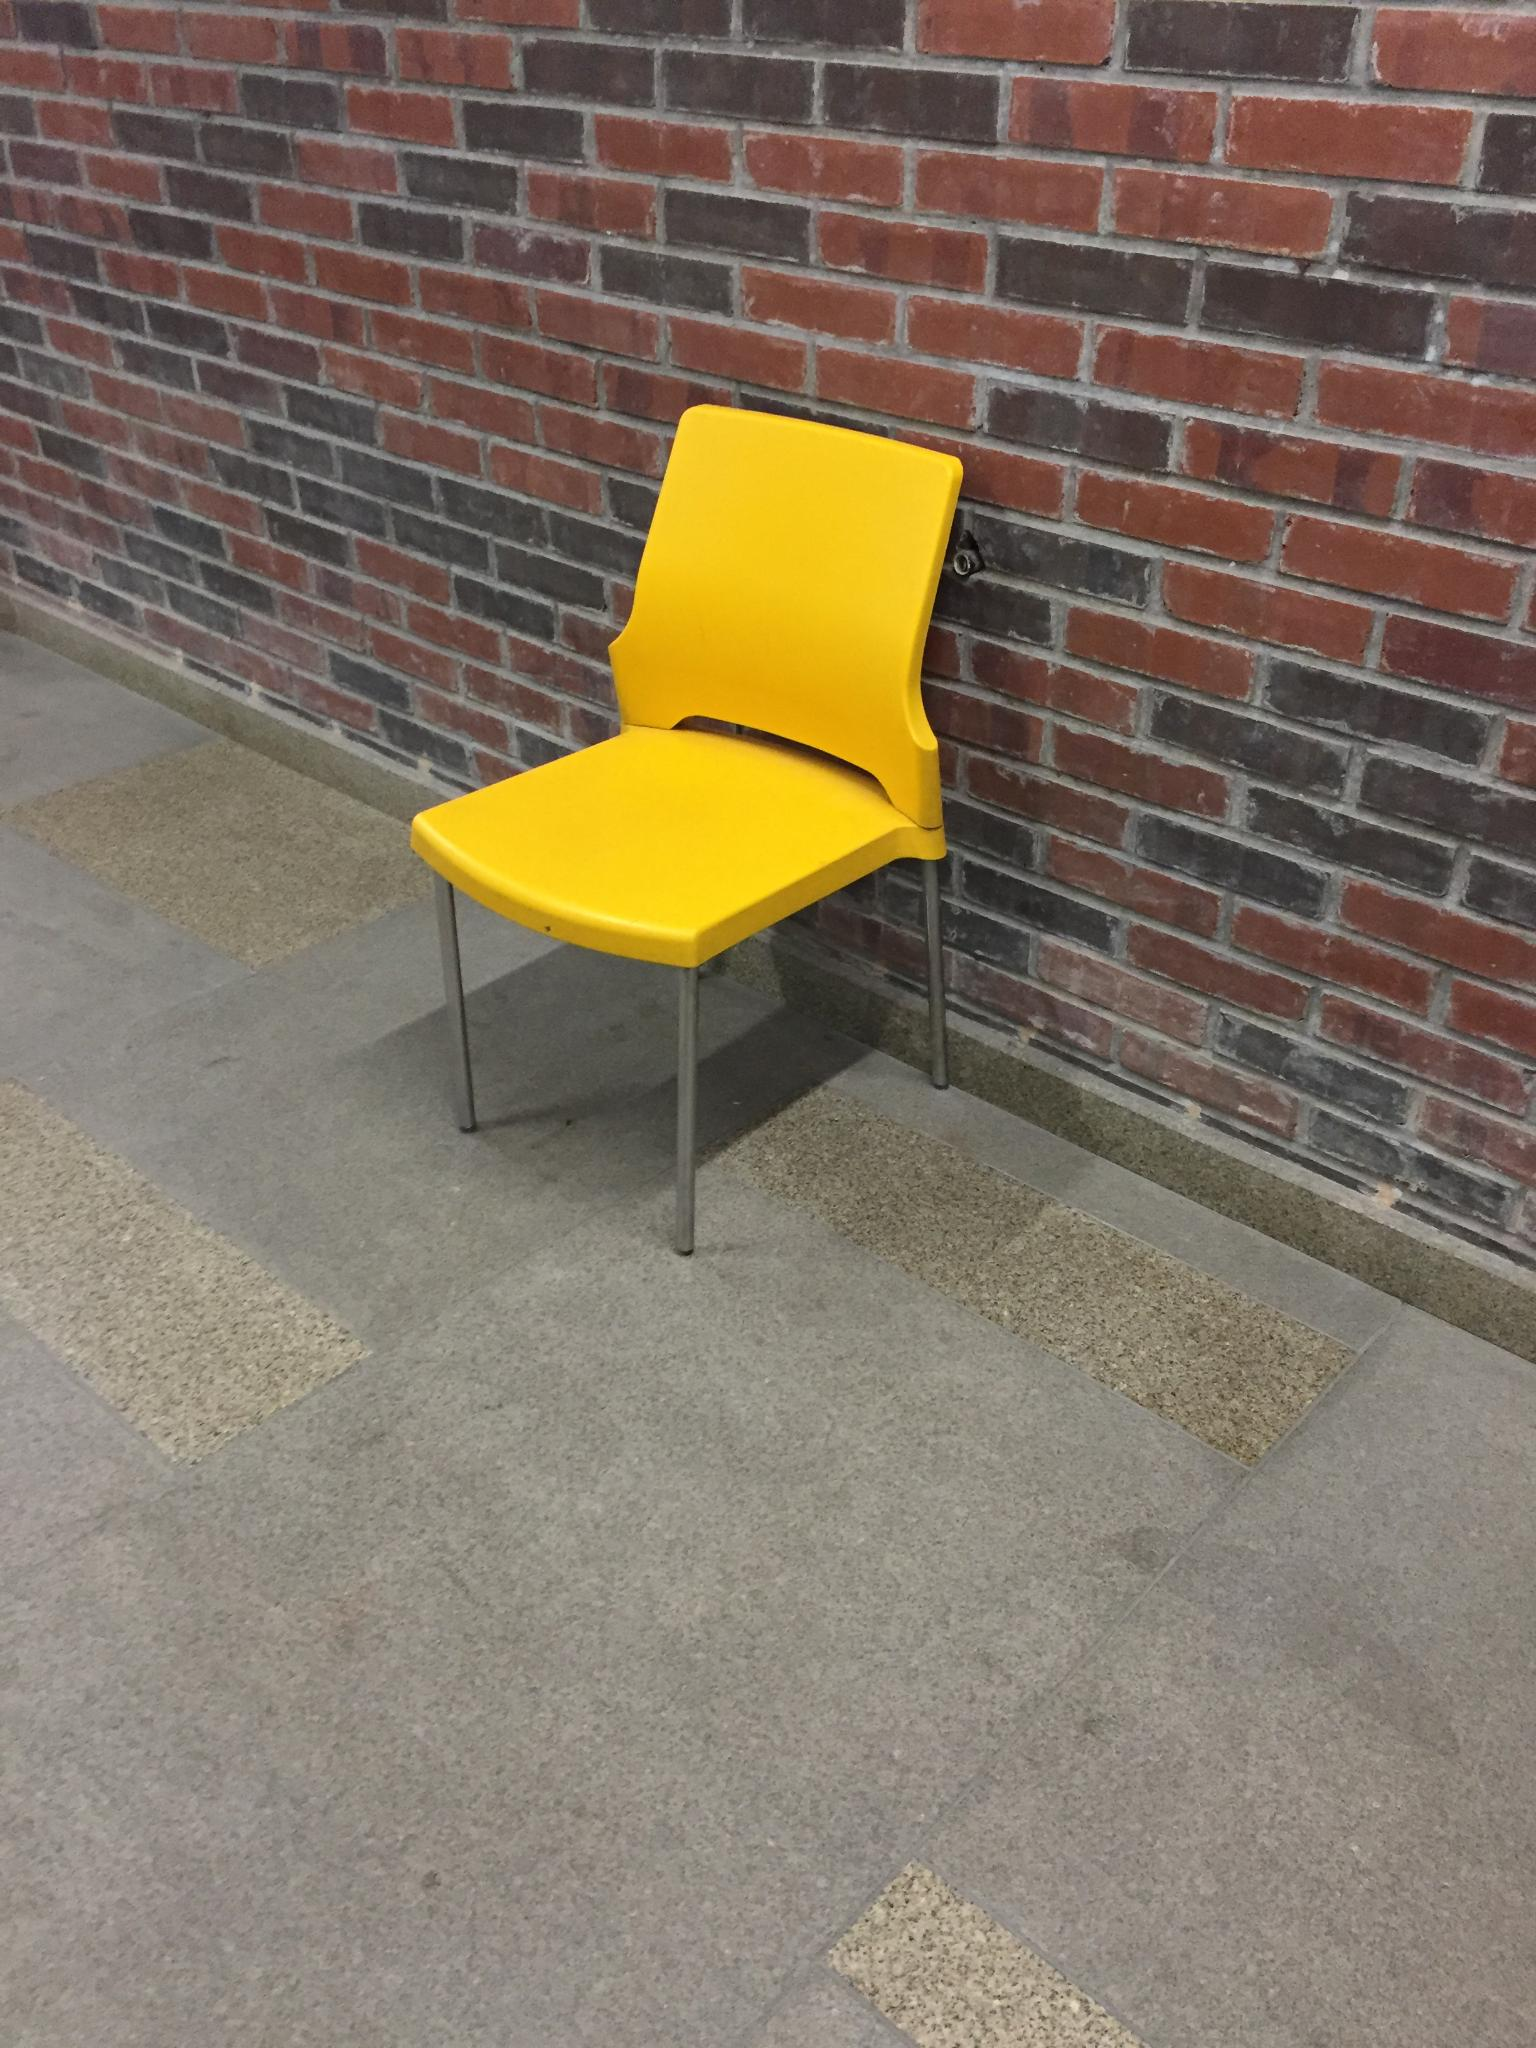chair: (408, 400, 966, 1256)
